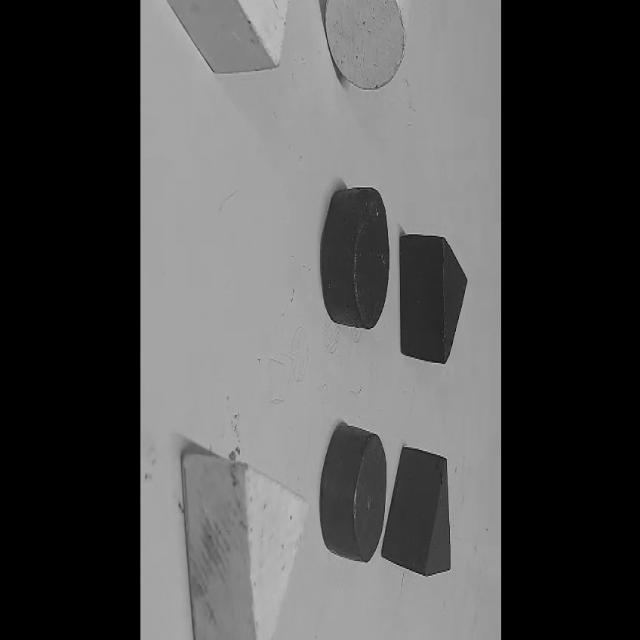bcircle: (320, 183, 390, 333)
btriangle: (398, 232, 468, 368)
rcircle: (318, 423, 386, 564)
rtriangle: (381, 445, 452, 578)
ycircle: (326, 2, 410, 91)
ycube: (163, 1, 284, 76)
ytriangle: (182, 449, 307, 637)
